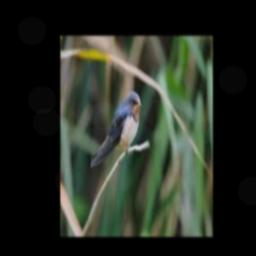Swallow: (88, 91, 140, 166)
